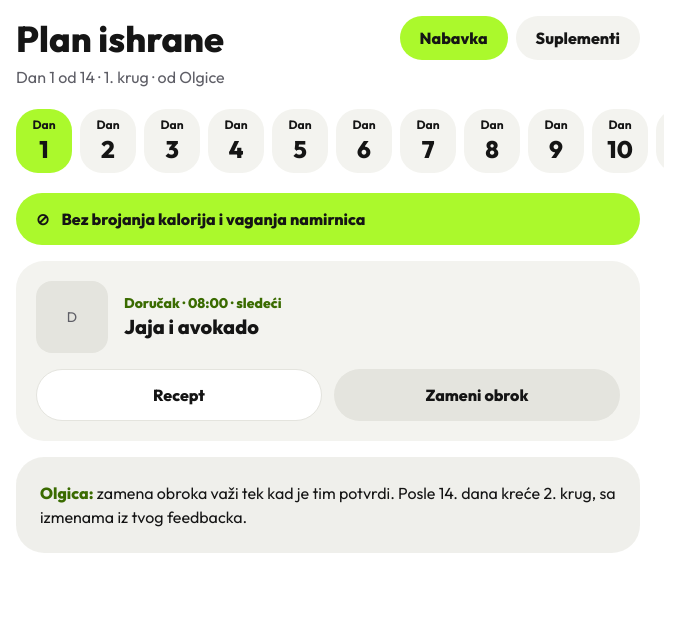
Test case: Plan ishrane › prvi nepojeden obrok ima Recept i Zameni obrok, a recept se otvara
expect the text "Doručak · 08:00 · sledeći" is shown: met, box [124, 294, 282, 312]
Click the button "Recept". click: x=179, y=395
box: [36, 369, 322, 421]
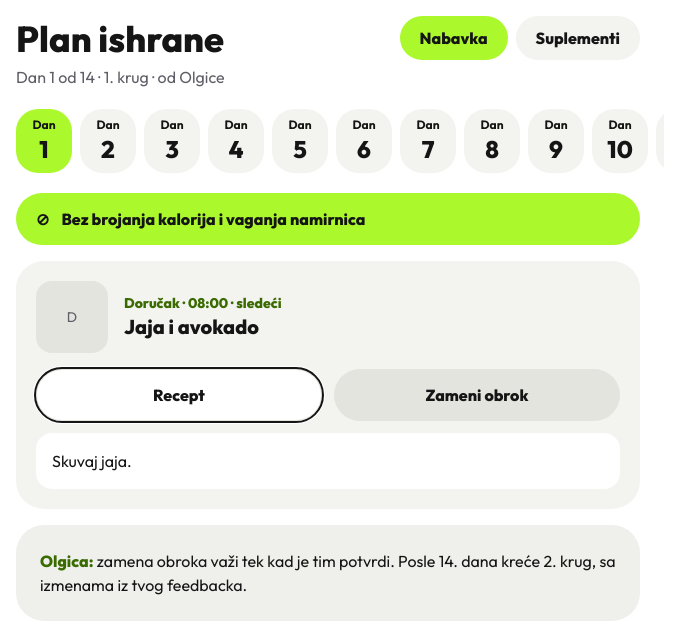
expect the text "Skuvaj jaja." is shown: met, box [36, 433, 620, 489]
